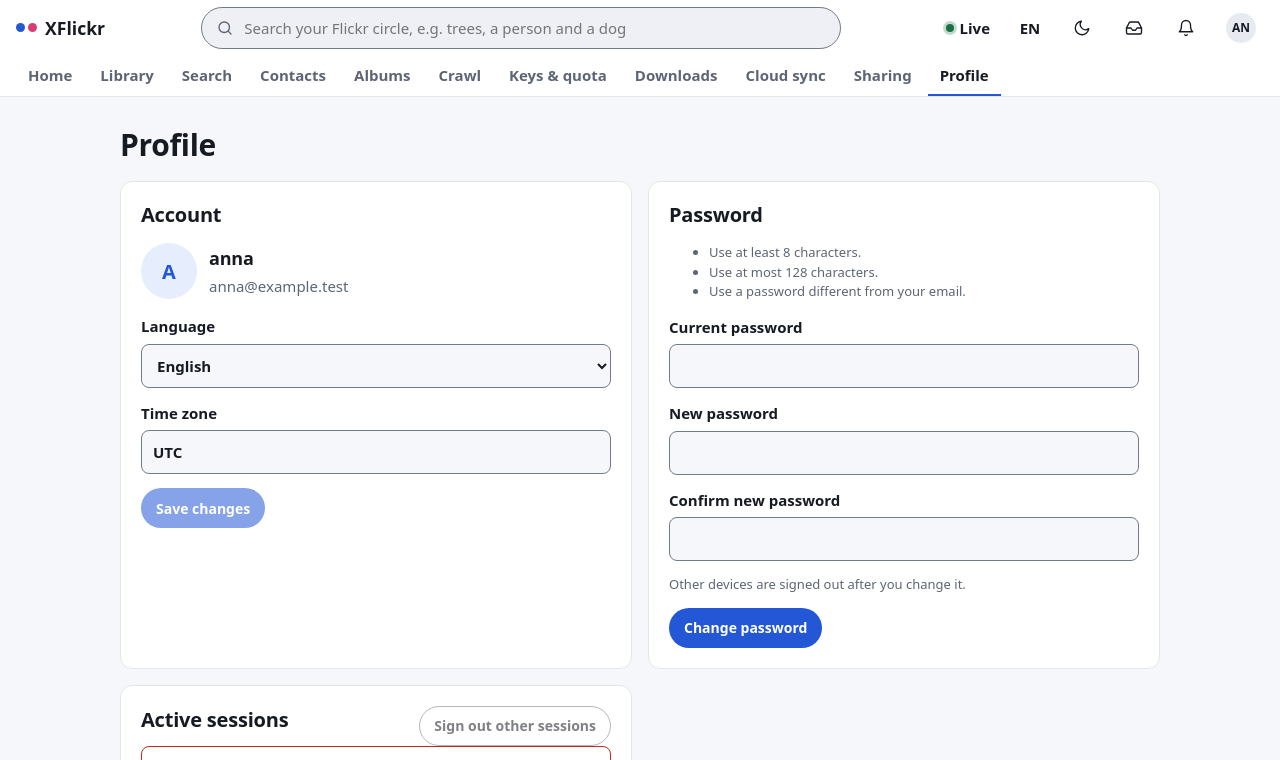
Scenario: ProfilePage › validates a new password length before sending
Type "old-password" into the password field with test id "profile-password-current" at (904, 366), box [669,344,1139,388]
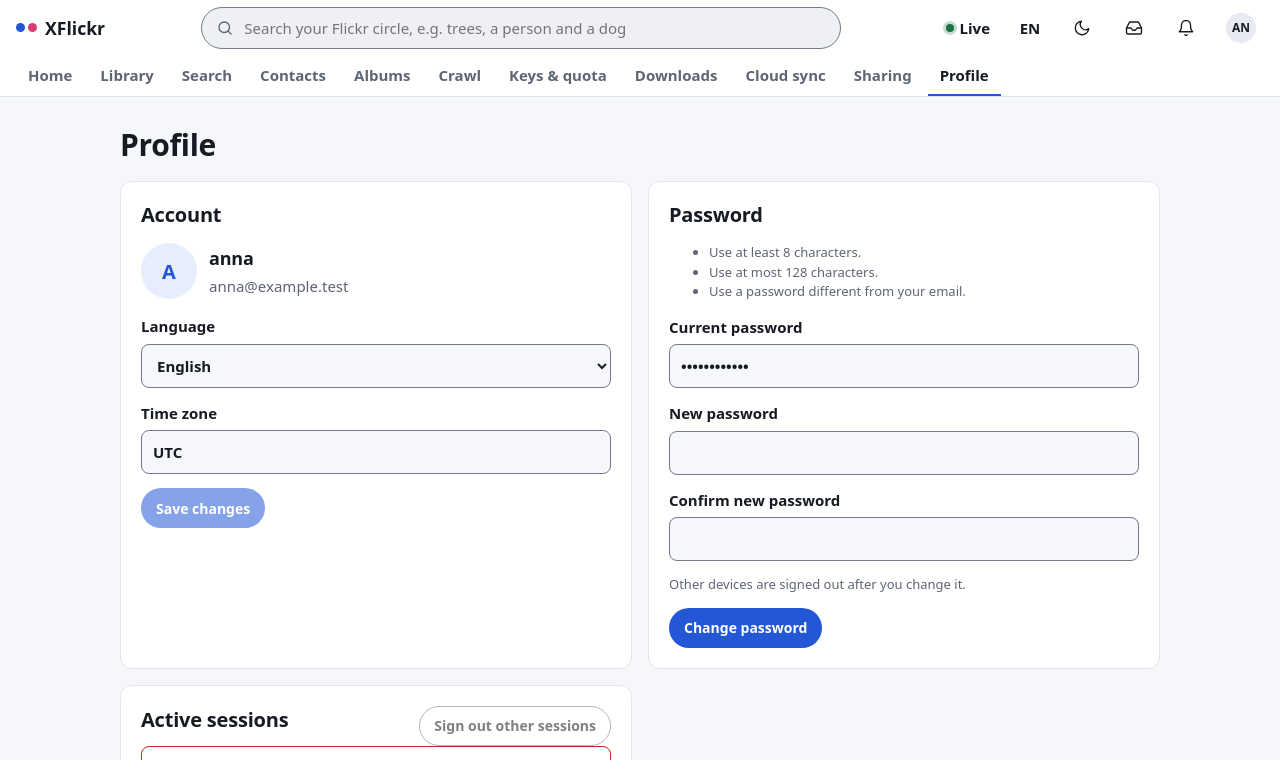
Type "short" into the password field with test id "profile-password-new" at (904, 452), box [669,430,1139,474]
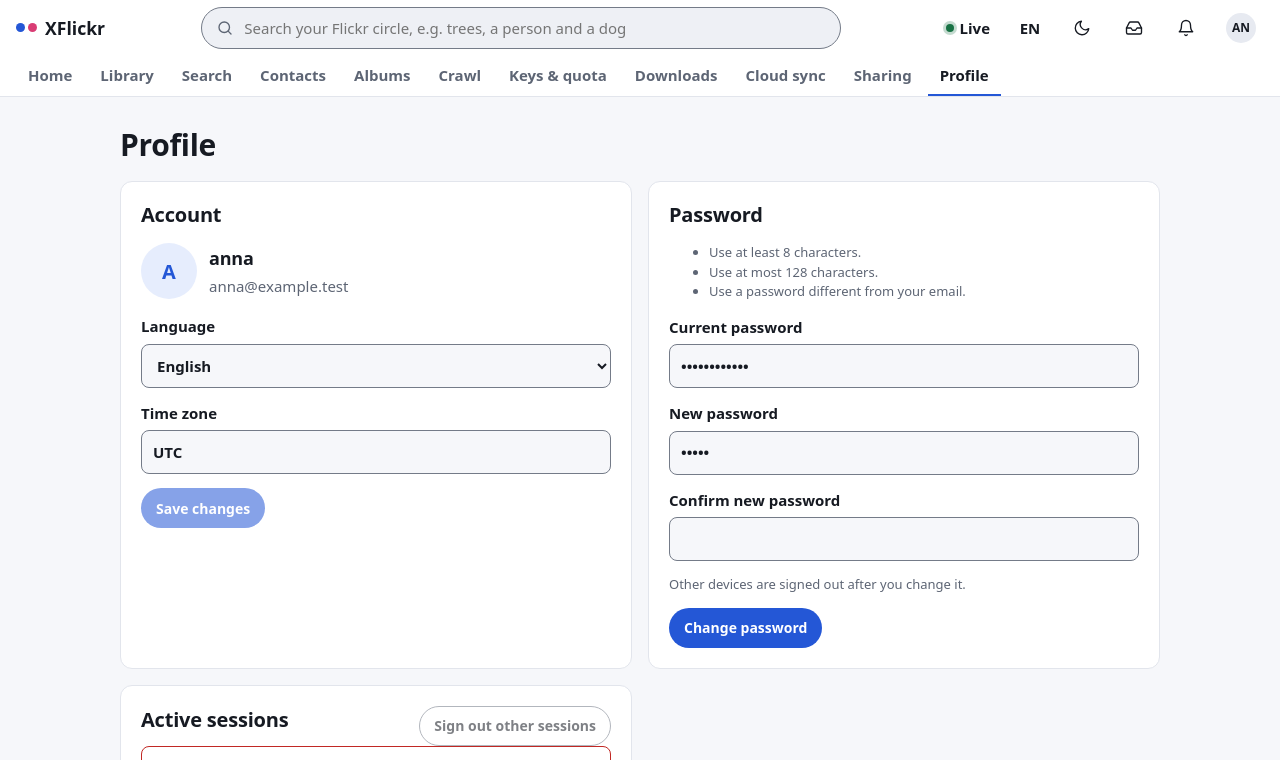
Type "short" into the password field with test id "profile-password-confirm" at (904, 539), box [669,517,1139,561]
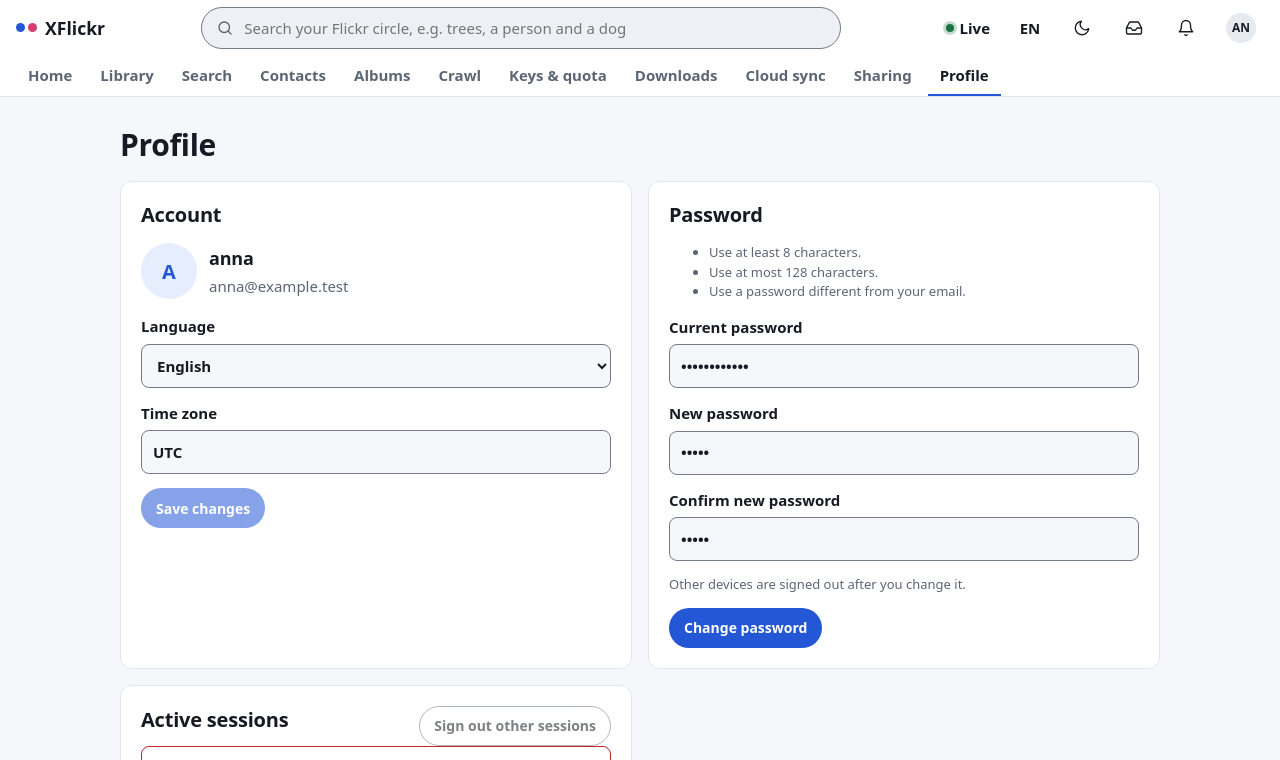
Click the button with test id "profile-password-submit" at (746, 628), box [669,608,822,648]
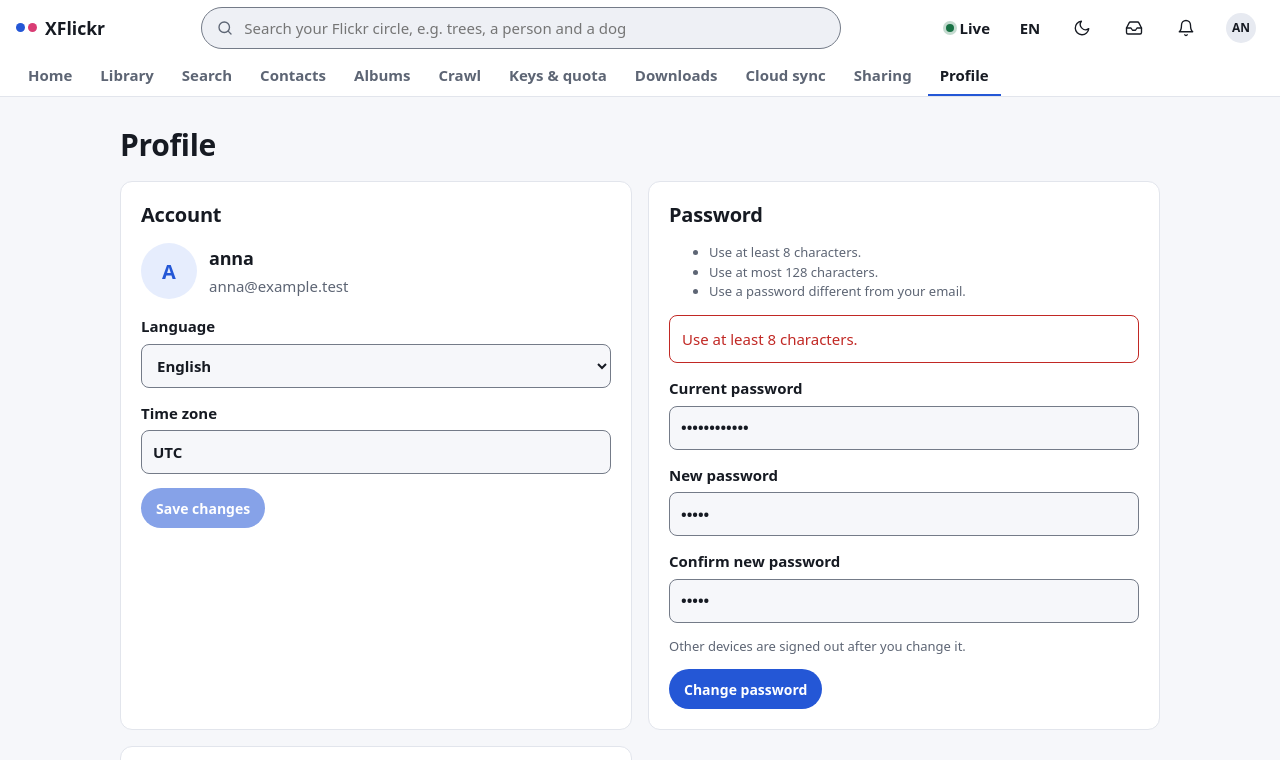
Expected: the message with test id "profile-password-error" shows "at least 8 characters", [682,328,858,348]
